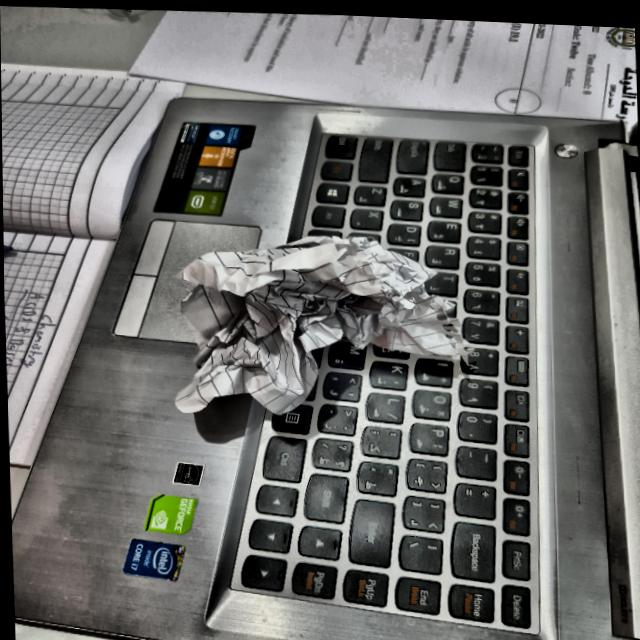Paper: (162, 231, 456, 427)
